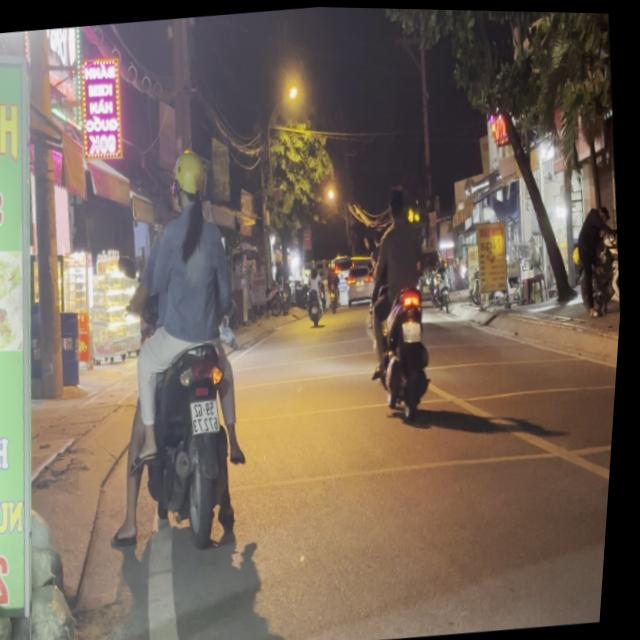helmet: (168, 145, 212, 212)
licenseplate: (93, 137, 280, 551), (353, 175, 451, 420)
motorcyclist: (387, 179, 413, 219)
nohelmet: (194, 396, 227, 431), (405, 317, 426, 339)
